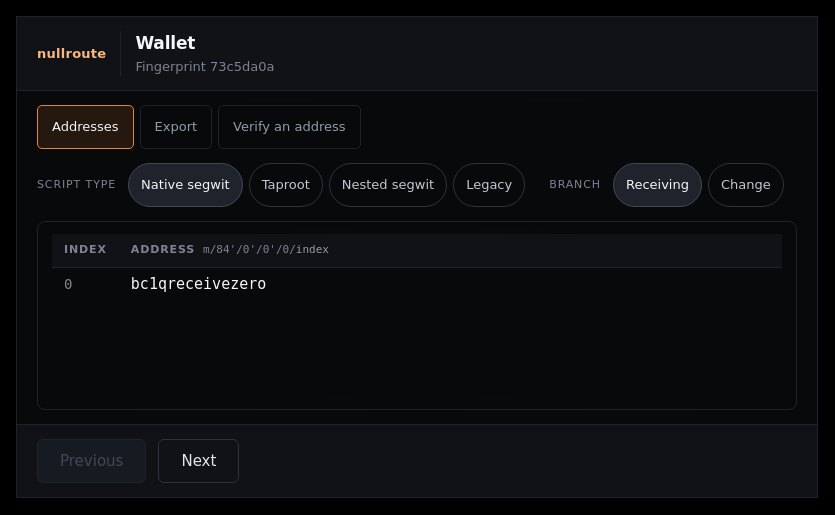
it: WalletScreen after a failed load › shows-no-addresses-from-the-branch-before-a-failed-one
Expected: the table with test id "address-rows" shows "bc1qreceivezero", [131,274,266,292]
Click the button with test id "branch-change" at {"x": 746, "y": 185}, box [708,163,784,207]
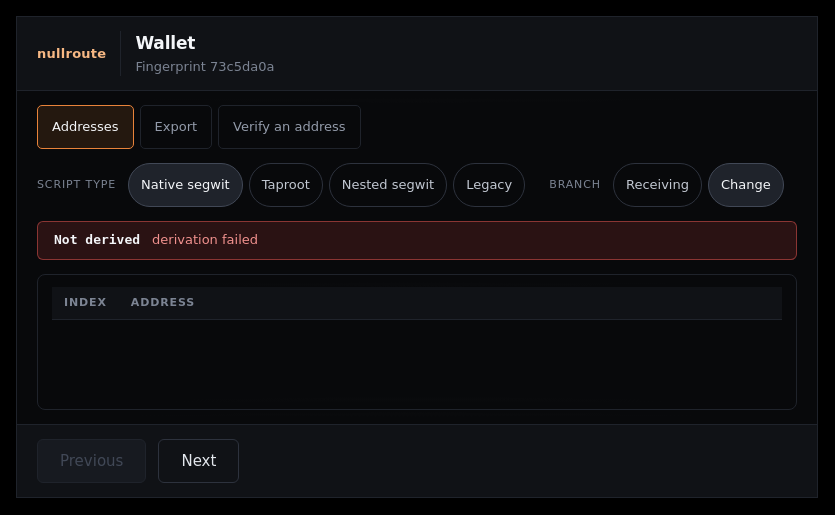
Result: the element with test id "addresses-error" shows "derivation failed" at [152,232,258,247]
Result: the text with test id "address-rows" no longer shows "bc1qreceivezero"
Result: the element with test id "addresses-path" is gone
